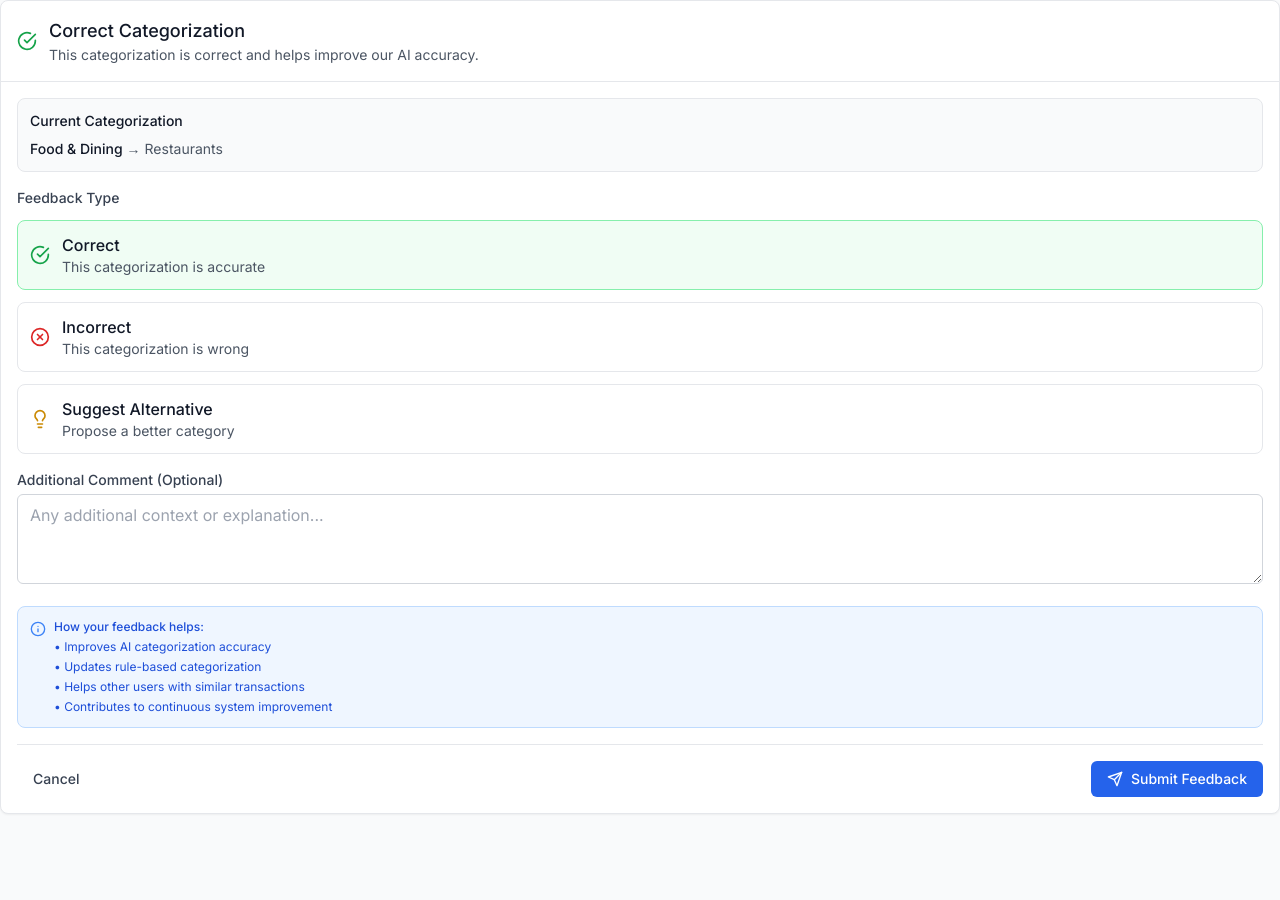
FeedbackForm › shows alternative suggestion fields when selected
Click the button "Suggest Alternative Propose a better category" at (137, 409), box [17,384,1263,454]
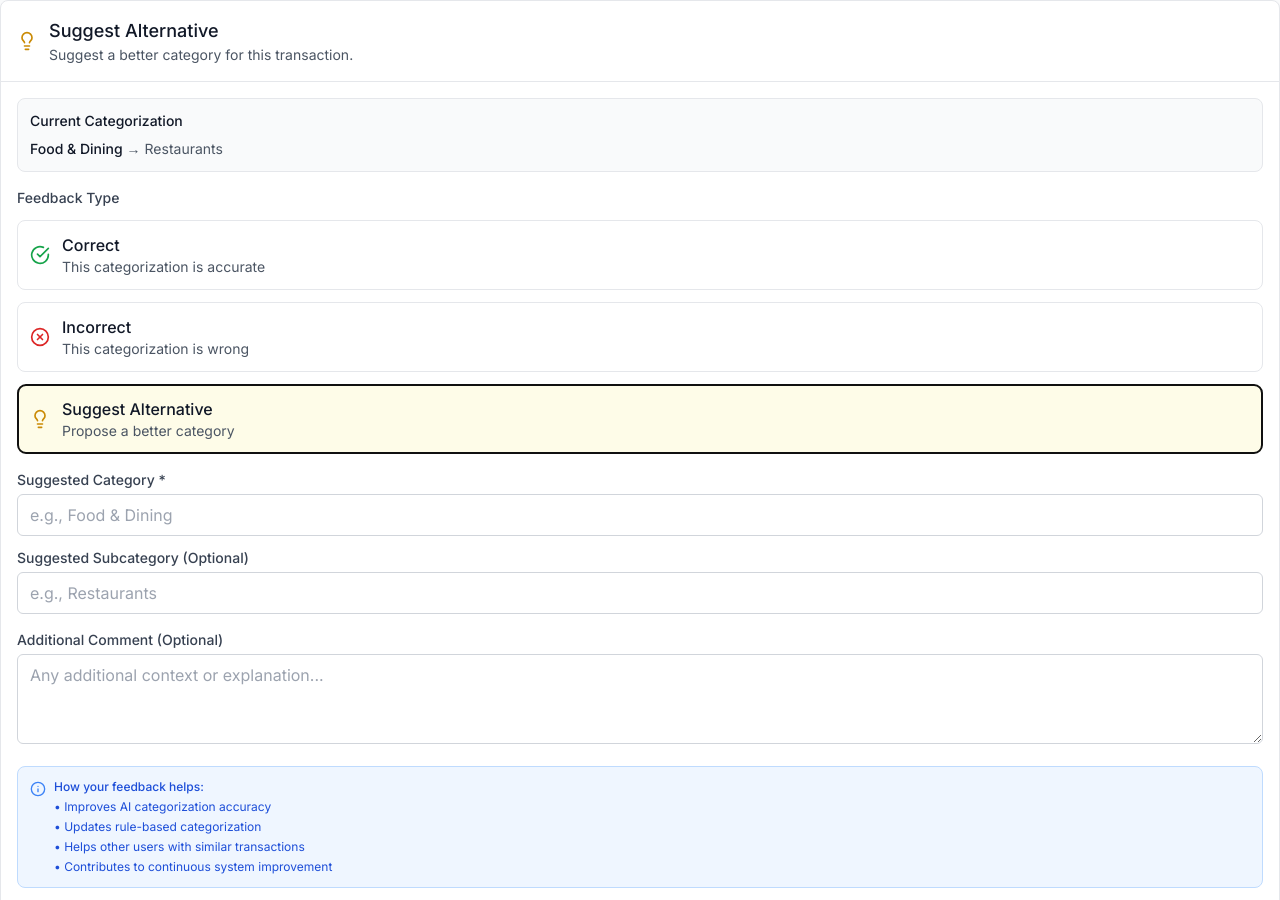
Expected: the field with placeholder "e.g., Food & Dining" is shown, [17,494,1263,536]
Expected: the field with placeholder "e.g., Restaurants" is shown, [17,572,1263,614]
